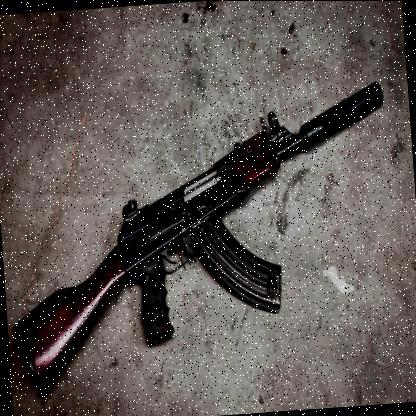rifle: (0, 46, 400, 396)
